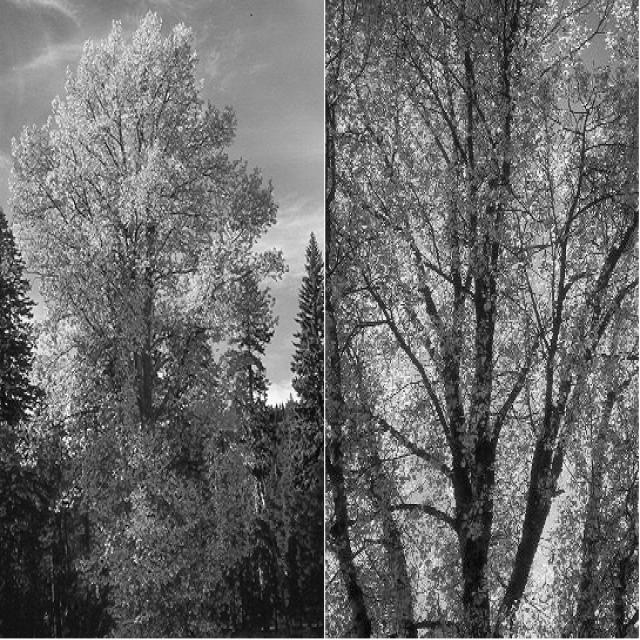Populus nigra: (328, 2, 640, 634), (6, 8, 292, 640)
